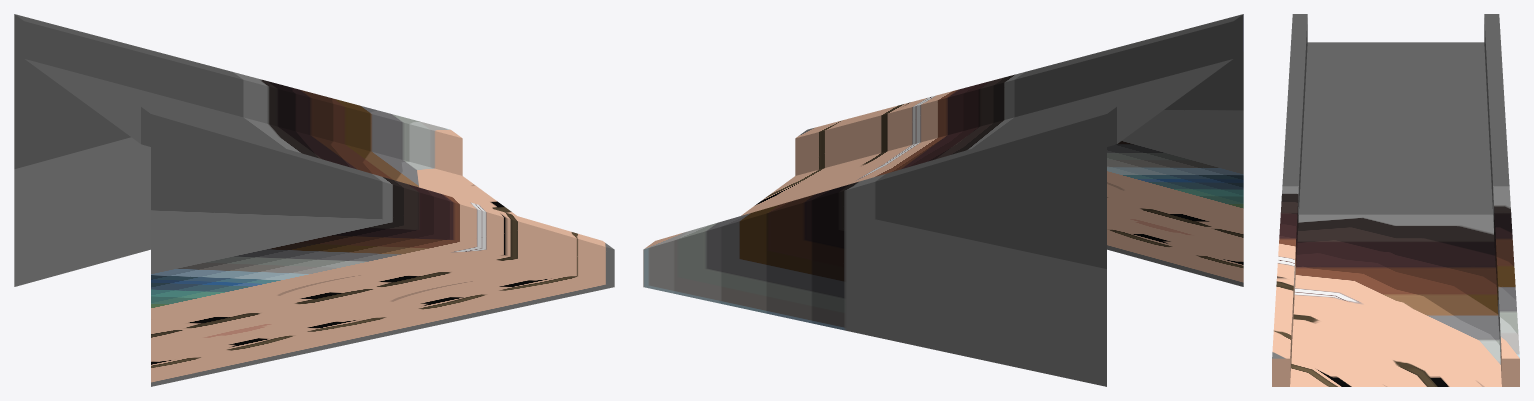
Rendered from Ramp.fbx.
3 views of the same model, side by side, from view 1: azimuth 30°, elevation 25°; view 2: azimuth 150°, elevation 25°; view 3: azimuth 270°, elevation 25° (orthographic). The views are drawn at different scales.
Visible parts, largest first — view 1: Ramp; view 2: Ramp; view 3: Ramp.
Part boxes in pixels (bbox=[...]): Ramp: bbox=[14, 14, 614, 386]; Ramp: bbox=[643, 14, 1243, 386]; Ramp: bbox=[1272, 14, 1519, 386].
Size of the model in its own units: 400 by 232 by 252.
1 material, 1 textured.
